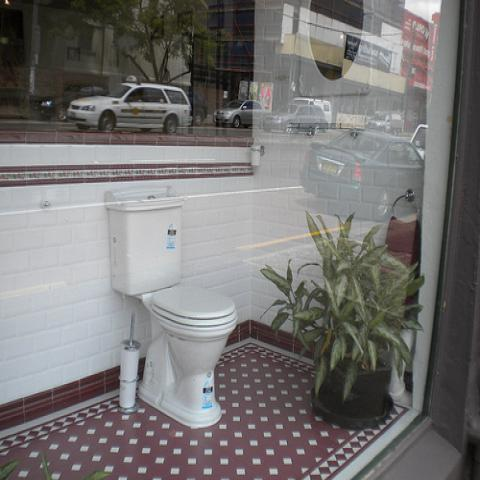car: (301, 128, 425, 220), (67, 83, 193, 134), (263, 102, 328, 137), (213, 96, 270, 130), (292, 98, 332, 129), (365, 112, 404, 133), (184, 91, 208, 125), (409, 124, 429, 163)
